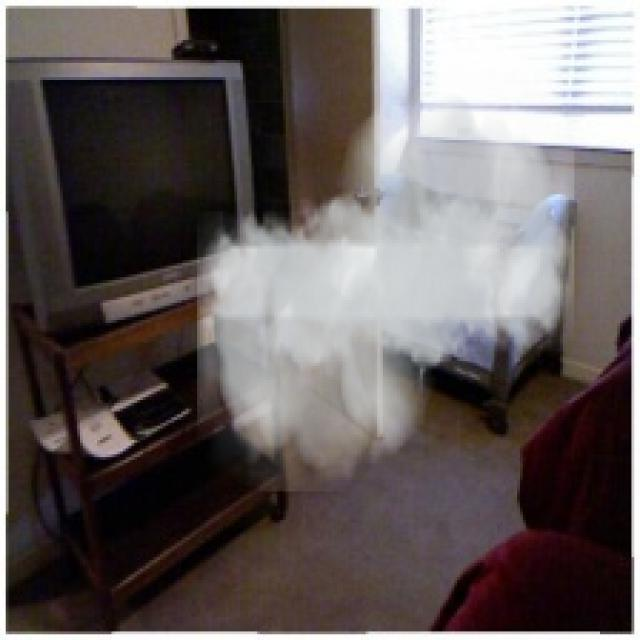Smoke: (197, 71, 574, 492)
